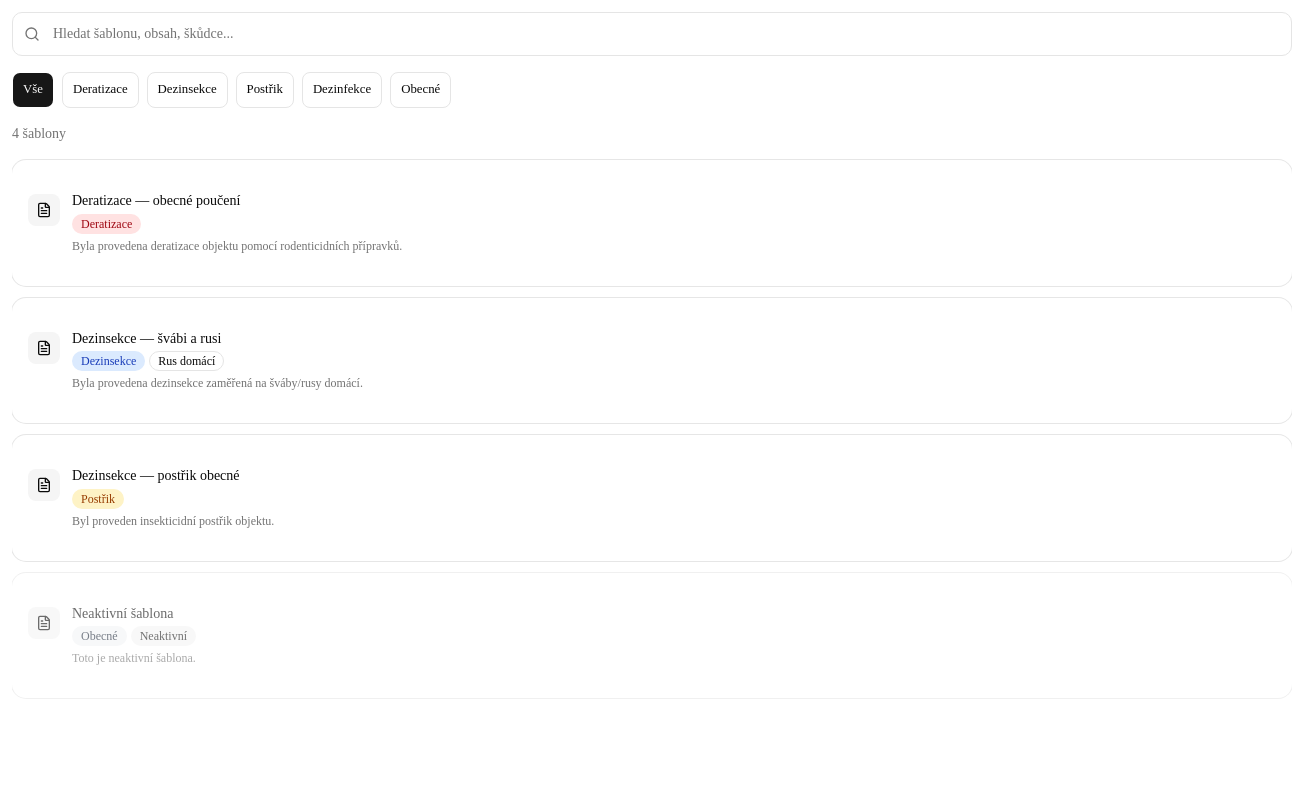
Test: SablonyPouceniList › filters by search query (nazev)
Step 1. Type "švábi" into the field with placeholder "Hledat šablonu, obsah, škůdce..." → (652, 34), box [12,12,1292,56]
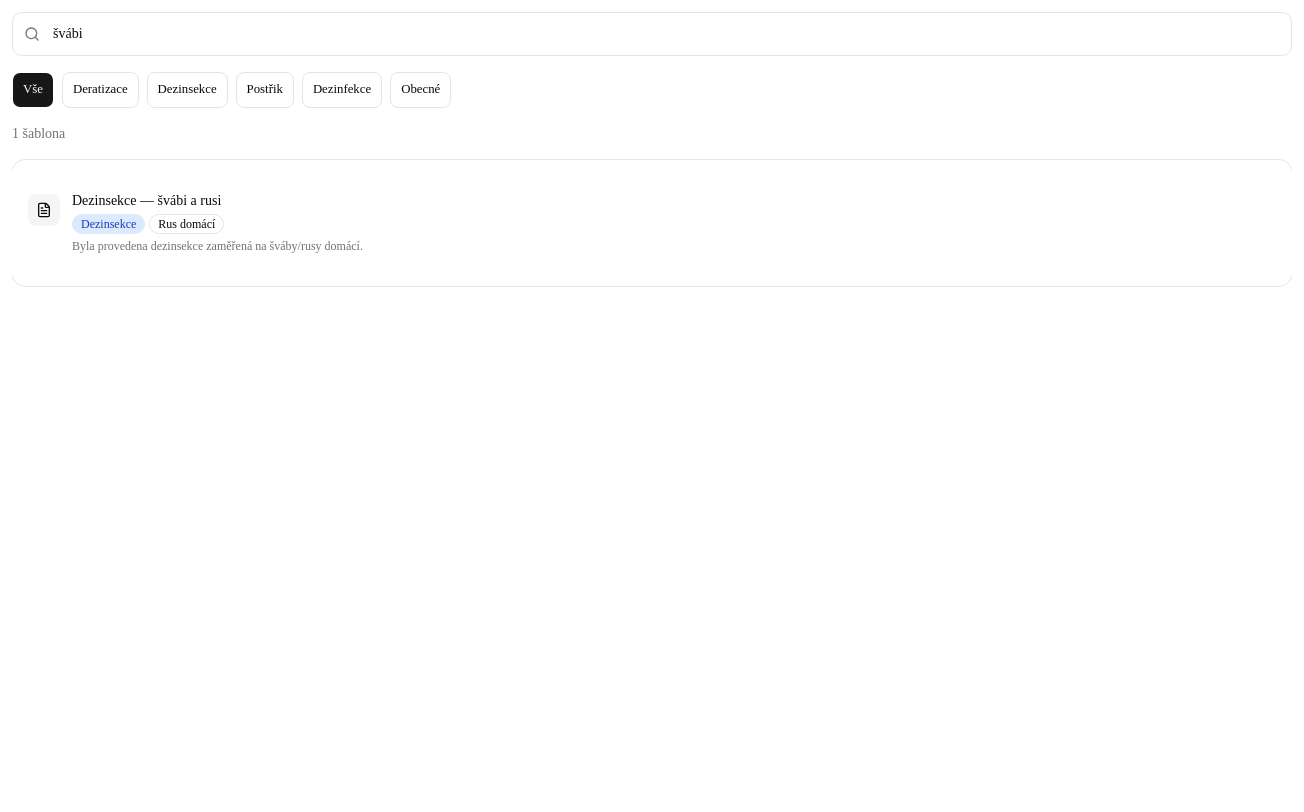
Expected: the text "Dezinsekce — švábi a rusi" is shown, [72,193,221,208]
Expected: the text "Deratizace — obecné poučení" is gone
